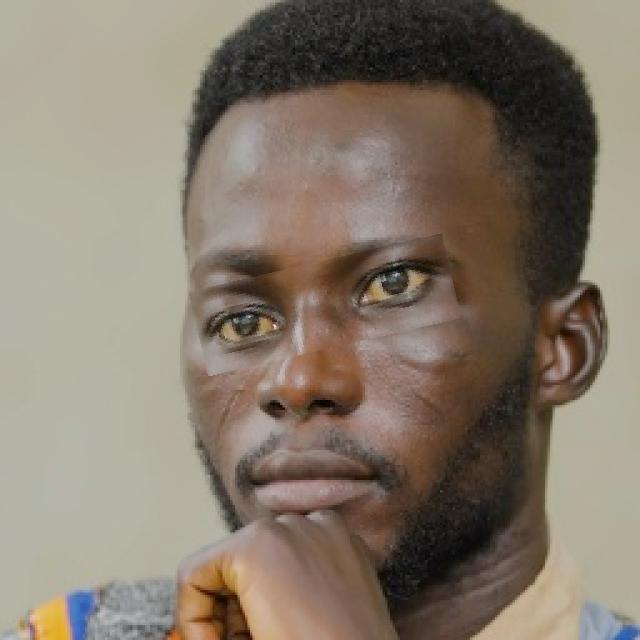no-glasses: (192, 247, 458, 362)
